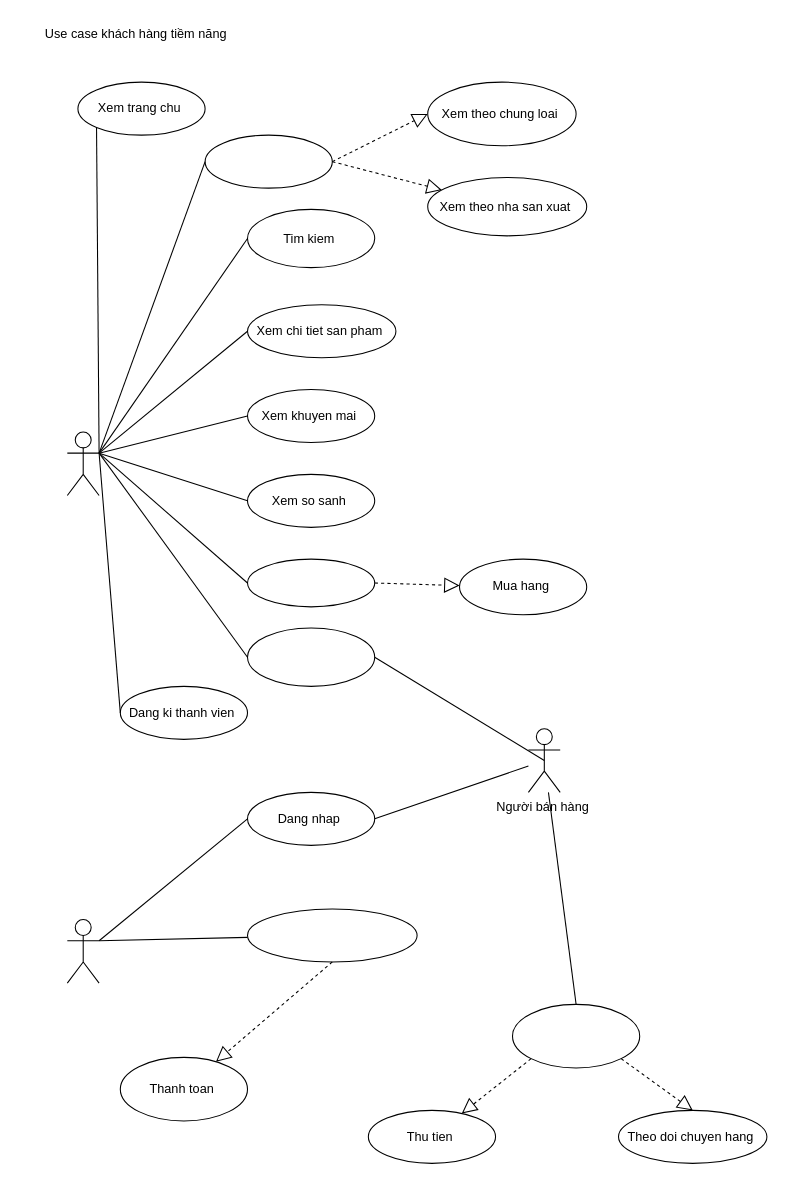
The diagram is 785 pixels wide and 1182 high, and some of its shapes have lost their labels. Each missing label, with the centre of its shape:
Chat: point (310, 656)
Khách hàng: point (82, 950)
Khách hàng tiềm năng: point (82, 463)
Quan ly don hang: point (575, 1035)
Quan ly don hang ca nhan: point (331, 935)
Quan ly gio hang: point (310, 582)
Xem san pham: point (268, 161)
